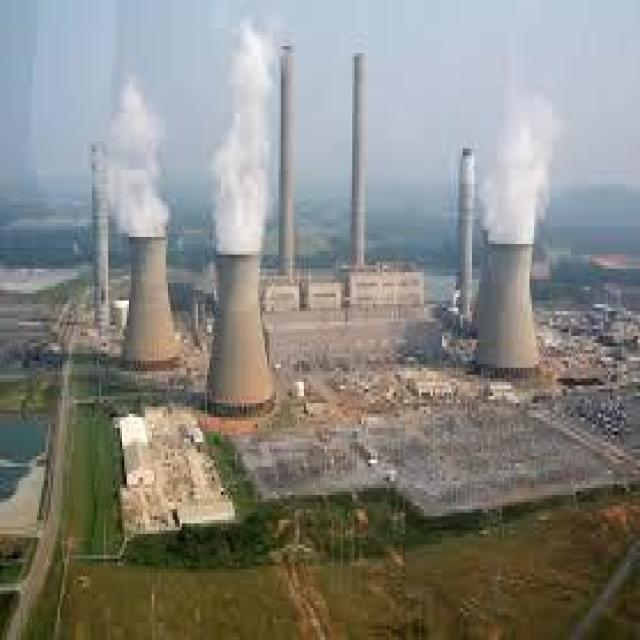Smoke: (205, 18, 282, 280), (471, 79, 561, 274), (95, 76, 179, 258)
